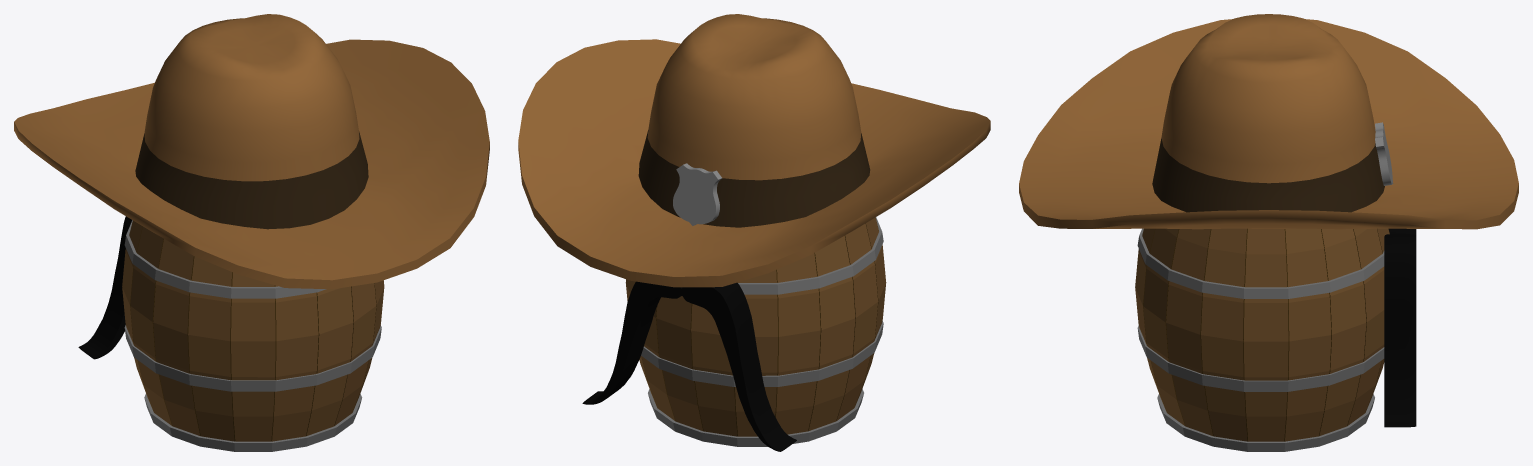
The model's file is barrel deputy 2.fbx.
3 renders of one model, left to right at view 1: azimuth 30°, elevation 25°; view 2: azimuth 150°, elevation 25°; view 3: azimuth 270°, elevation 25°, orthographic.
Visible parts, largest first — view 1: barrel deputy; view 2: barrel deputy; view 3: barrel deputy.
Part boxes in pixels (bbox=[...]): barrel deputy: bbox=[14, 14, 489, 451]; barrel deputy: bbox=[518, 14, 990, 451]; barrel deputy: bbox=[1019, 14, 1518, 451].
Size of the model in its own units: 975 by 862 by 1060.
